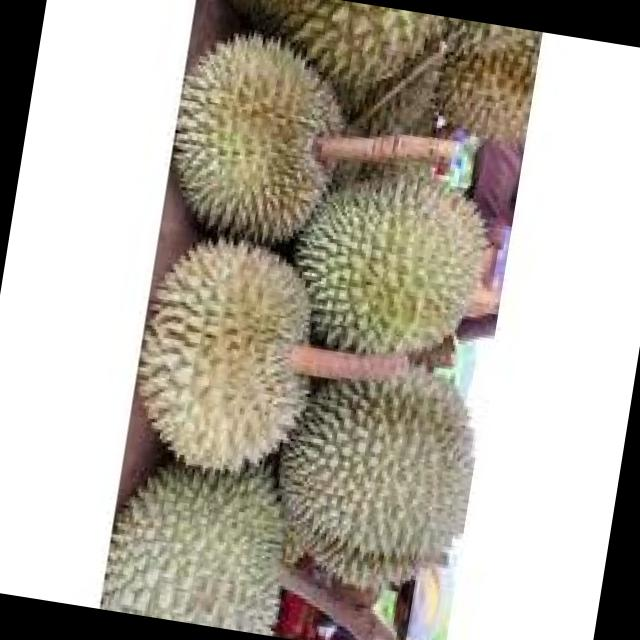fruit: (233, 328, 518, 622), (262, 138, 518, 384), (188, 0, 550, 168), (123, 217, 344, 492), (160, 14, 367, 266), (95, 437, 327, 640)
